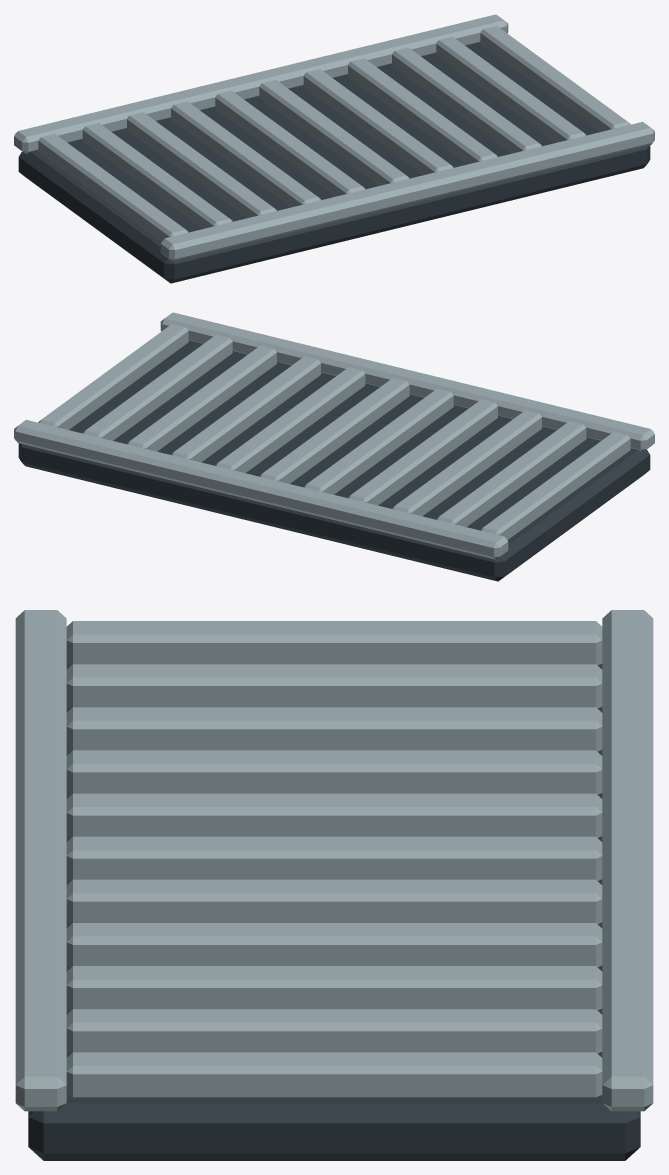
File: Storm_Drain.glb
The picture shows the model from 3 angles, top to bottom: view 1: azimuth 30°, elevation 25°; view 2: azimuth 150°, elevation 25°; view 3: azimuth 270°, elevation 25°; orthographic projection. The views are drawn at different scales.
Parts seen in each view (by area): view 1: Storm_Drain; view 2: Storm_Drain; view 3: Storm_Drain.
Boxes of the visible parts, x1,y1,x2,y2 form: Storm_Drain: [14, 14, 654, 283]; Storm_Drain: [14, 312, 654, 581]; Storm_Drain: [15, 610, 653, 1160].
Size of the model in its own units: 0.88 by 0.075 by 0.5.
